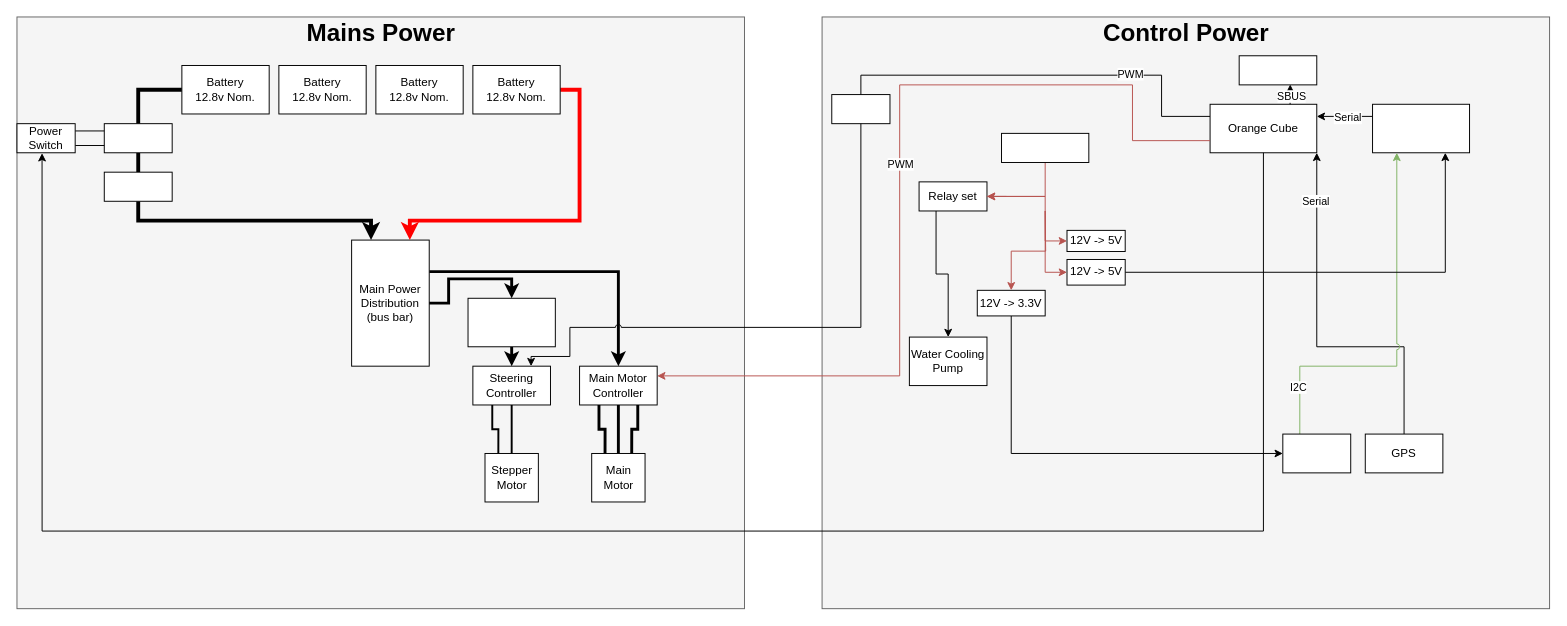
This 1567x626 diagram has some shape labels left out. Each missing label, with the centre of its shape:
3S 11.1V LiPo: [1045,147]
Estop contactor: [137,138]
Main Fuse: [137,186]
Nano: [860,109]
Power Regulator: [511,322]
Raspi 4: [1421,128]
RC Receiver: [1277,70]
Temp Sensor: [1316,453]
